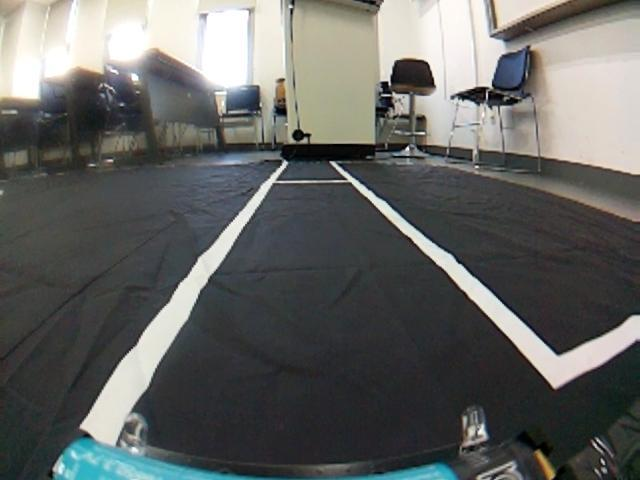straight: (84, 186, 582, 451)
